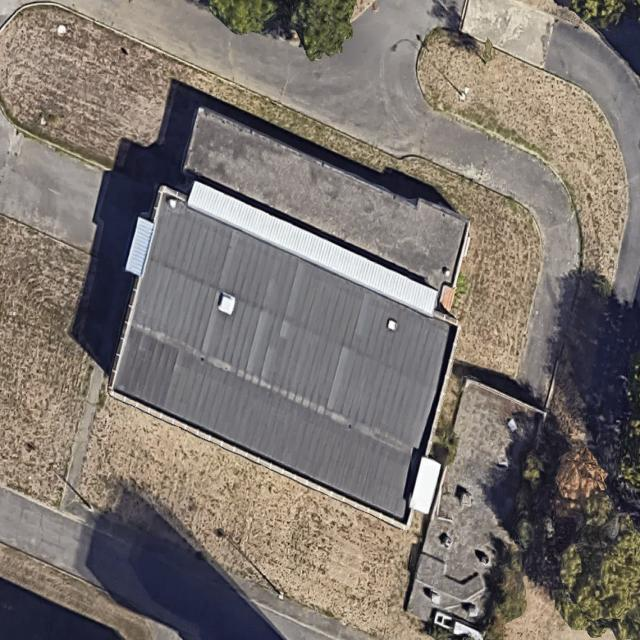immeuble: (78, 104, 521, 524)
